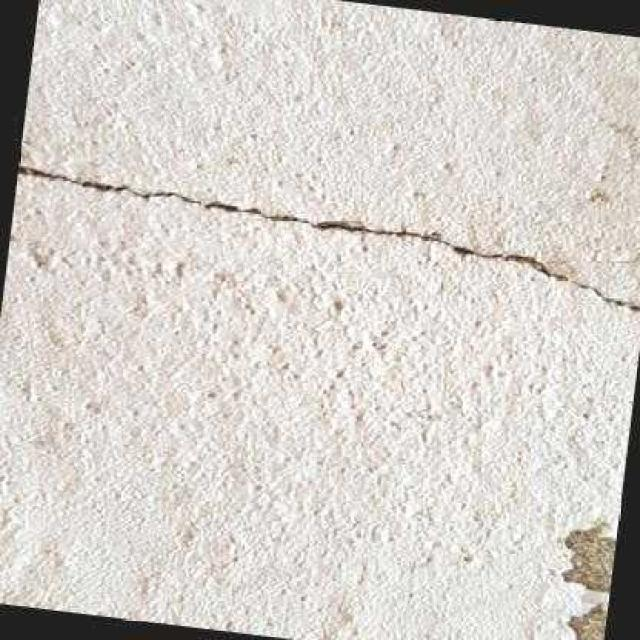D00: (16, 166, 640, 309)
